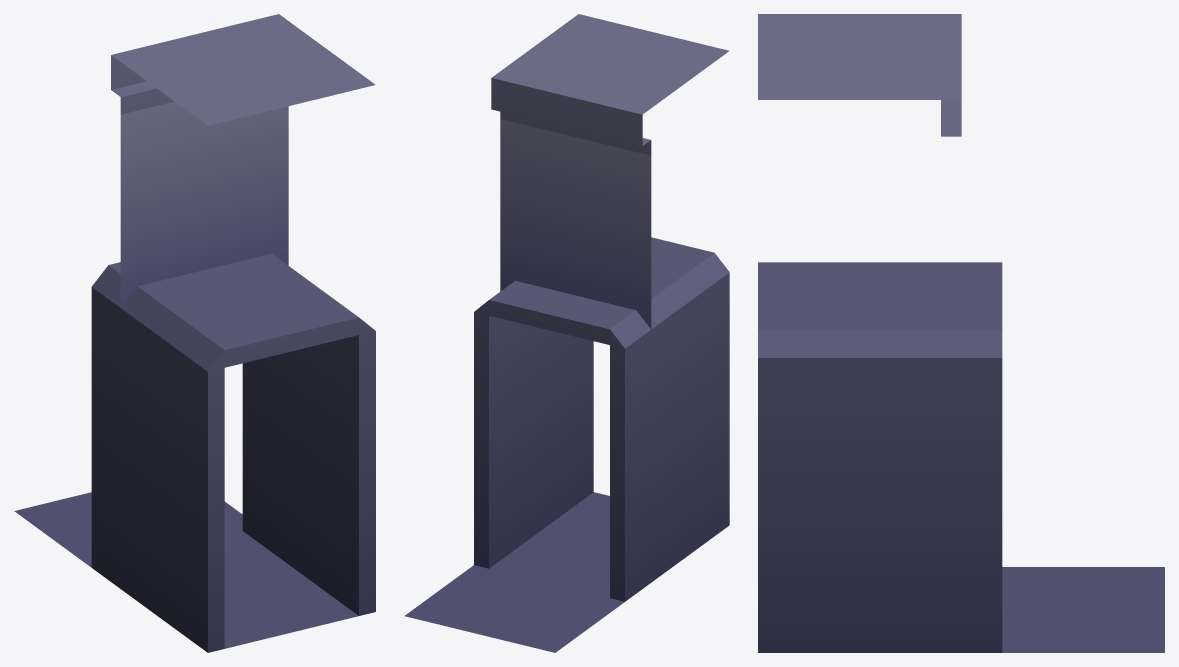
Rendered from structure-doorway.glb.
3 renders of one model, left to right at view 1: azimuth 30°, elevation 25°; view 2: azimuth 150°, elevation 25°; view 3: azimuth 270°, elevation 25°, orthographic. The views are drawn at different scales.
Visible parts, largest first — view 1: structure-doorway; view 2: structure-doorway; view 3: structure-doorway.
Part boxes in pixels (x1,y1,x2,y2): structure-doorway: (14,14,375,652); structure-doorway: (404,14,729,652); structure-doorway: (758,14,1164,652).
Size of the model in its own units: 1 by 3 by 2.
